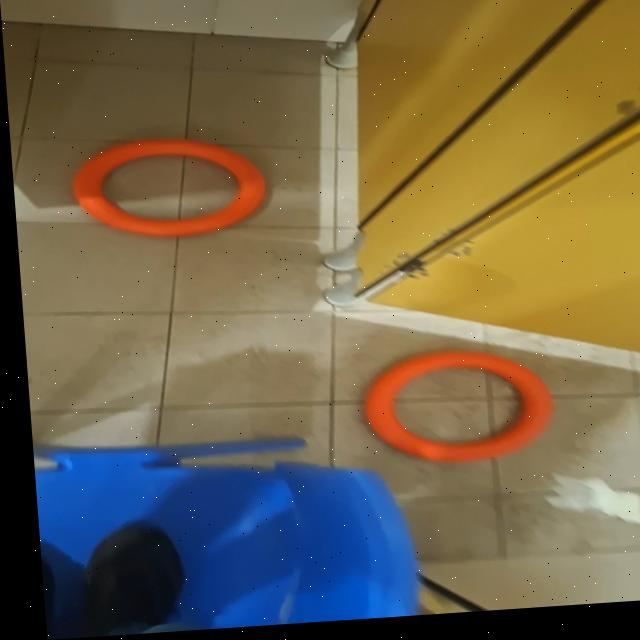note: (352, 350, 551, 473), (66, 134, 267, 245)
